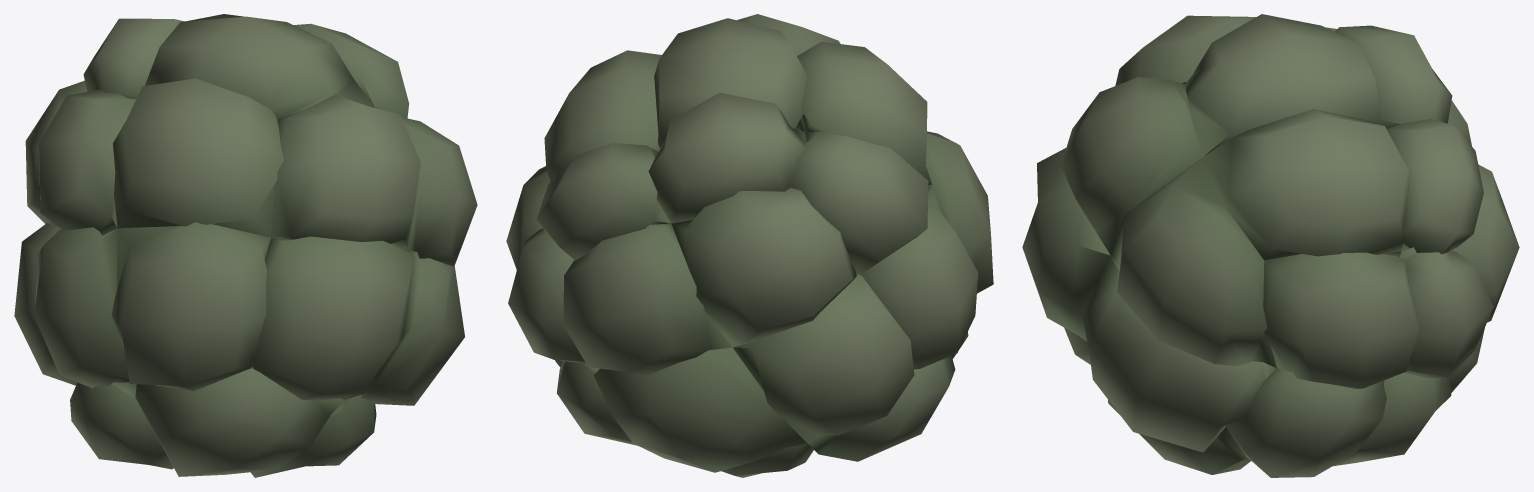
The picture shows the model from 3 angles, left to right: view 1: azimuth 30°, elevation 25°; view 2: azimuth 150°, elevation 25°; view 3: azimuth 270°, elevation 25°; orthographic projection.
Parts seen in each view (by area): view 1: alt3.182; view 2: alt3.182; view 3: alt3.182.
Boxes of the visible parts, x1=… form: alt3.182: x1=14, y1=14, x2=477, y2=477; alt3.182: x1=506, y1=14, x2=993, y2=477; alt3.182: x1=1022, y1=14, x2=1519, y2=477.
Size of the model in its own units: 0.4771 by 0.4783 by 0.5.
